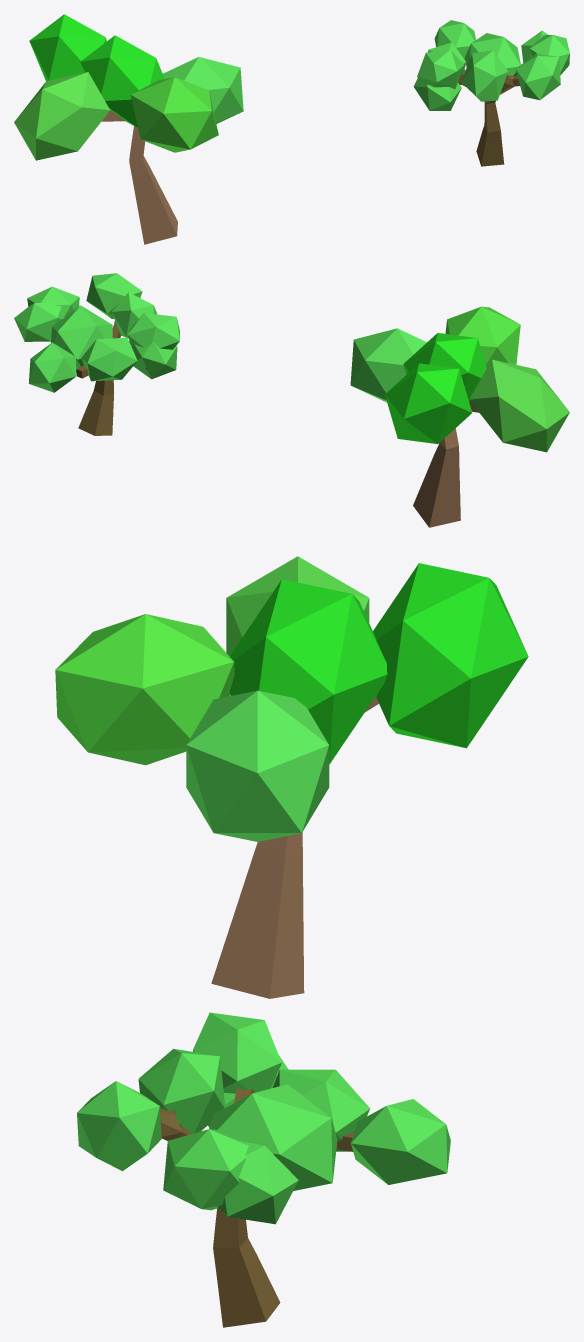
The model's file is Trees2.fbx.
3 views of the same model, one above another, from view 1: azimuth 30°, elevation 25°; view 2: azimuth 150°, elevation 25°; view 3: azimuth 270°, elevation 25° (orthographic). The views are drawn at different scales.
Visible parts, largest first — view 1: Icosphere.002, Icosphere.001, Icosphere.004, Icosphere.003, Cube, Icosphere, Icosphere.010, Icosphere.009, Cube.001, Icosphere.005, Icosphere.013, Icosphere.006 (+2 smaller); view 2: Icosphere.002, Icosphere.003, Icosphere, Cube, Icosphere.001, Icosphere.004, Icosphere.013, Icosphere.011, Icosphere.012, Cube.001, Icosphere.005, Icosphere.007 (+4 smaller); view 3: Icosphere.003, Icosphere.001, Icosphere, Icosphere.004, Cube, Icosphere.013, Icosphere.012, Cube.001, Icosphere.009, Icosphere.008, Icosphere.010, Icosphere.005 (+3 smaller).
Boxes of the visible parts, x1=… form: Icosphere.002: x1=14, y1=72, x2=110, y2=160; Icosphere.001: x1=130, y1=77, x2=218, y2=152; Icosphere.004: x1=80, y1=35, x2=164, y2=127; Icosphere.003: x1=29, y1=14, x2=106, y2=80; Cube: x1=101, y1=110, x2=177, y2=244; Icosphere: x1=163, y1=57, x2=243, y2=123; Icosphere.010: x1=461, y1=50, x2=508, y2=101; Icosphere.009: x1=515, y1=53, x2=560, y2=100; Cube.001: x1=458, y1=69, x2=519, y2=166; Icosphere.005: x1=417, y1=49, x2=463, y2=88; Icosphere.013: x1=464, y1=33, x2=520, y2=76; Icosphere.006: x1=413, y1=78, x2=461, y2=110; Icosphere.002: x1=469, y1=359, x2=569, y2=452; Icosphere.003: x1=385, y1=363, x2=472, y2=443; Icosphere: x1=350, y1=328, x2=426, y2=402; Cube: x1=413, y1=401, x2=479, y2=527; Icosphere.001: x1=445, y1=306, x2=520, y2=367; Icosphere.004: x1=403, y1=333, x2=486, y2=401; Icosphere.013: x1=51, y1=305, x2=112, y2=368; Icosphere.011: x1=81, y1=337, x2=137, y2=381; Icosphere.012: x1=28, y1=342, x2=76, y2=392; Cube.001: x1=76, y1=321, x2=146, y2=435; Icosphere.005: x1=127, y1=313, x2=179, y2=349; Icosphere.007: x1=14, y1=301, x2=64, y2=341; Icosphere.003: x1=373, y1=563, x2=528, y2=748; Icosphere.001: x1=55, y1=614, x2=234, y2=765; Icosphere: x1=186, y1=690, x2=329, y2=841; Icosphere.004: x1=229, y1=579, x2=387, y2=764; Cube: x1=211, y1=694, x2=378, y2=998; Icosphere.013: x1=209, y1=1084, x2=337, y2=1190; Icosphere.012: x1=351, y1=1099, x2=450, y2=1184; Cube.001: x1=160, y1=1088, x2=354, y2=1327; Icosphere.009: x1=77, y1=1081, x2=161, y2=1170; Icosphere.008: x1=163, y1=1129, x2=248, y2=1210; Icosphere.010: x1=138, y1=1048, x2=225, y2=1133; Icosphere.005: x1=192, y1=1012, x2=281, y2=1093.
Bounding box in the file's own units: 885 × 310 × 345.
